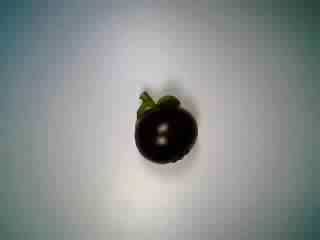mangosteen: (125, 87, 203, 167)
